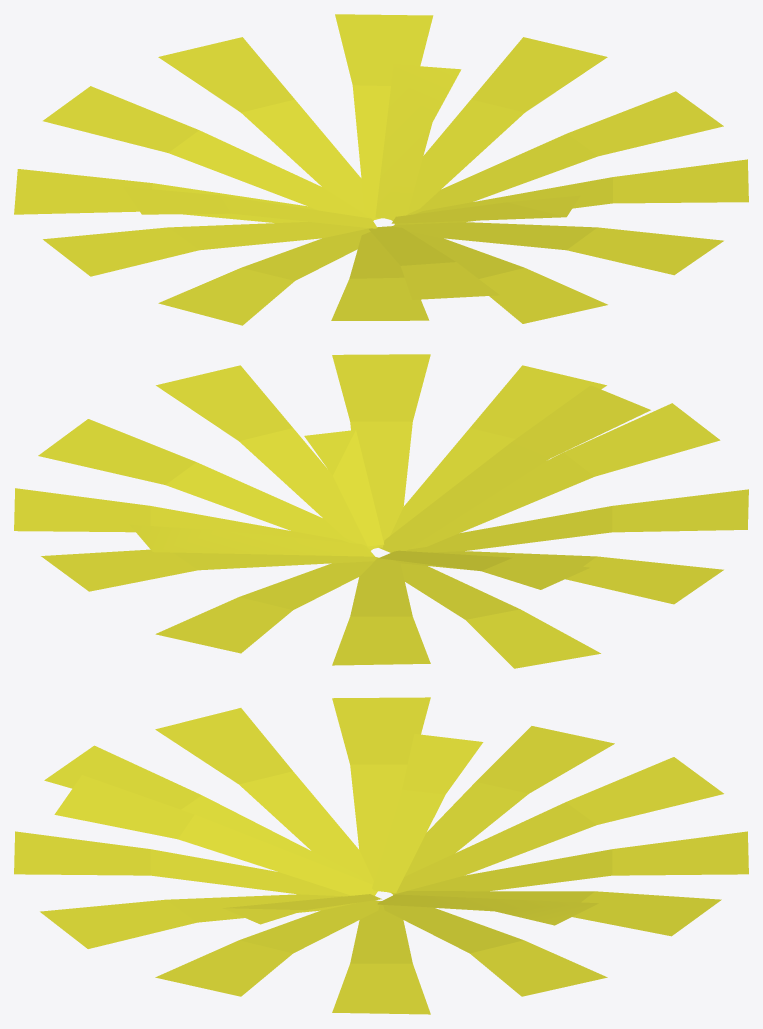
Rendered from Plant4.fbx.
3 renders of one model, top to bottom at view 1: azimuth 30°, elevation 25°; view 2: azimuth 150°, elevation 25°; view 3: azimuth 270°, elevation 25°, orthographic.
Parts seen in each view (by area): view 1: Plant_4; view 2: Plant_4; view 3: Plant_4.
Boxes of the visible parts, box(x1,y1,x2,y2) form: Plant_4: box(14, 14, 748, 325); Plant_4: box(14, 354, 748, 668); Plant_4: box(14, 697, 748, 1014).
Bounding box in the file's own units: 234 × 22.26 × 234.
